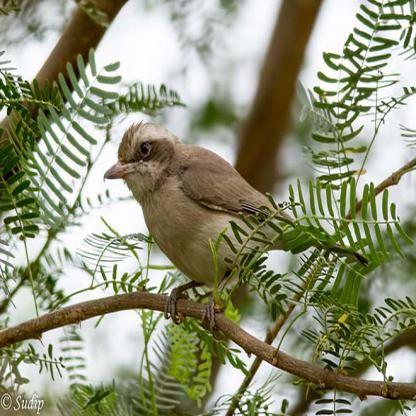Burung: (103, 122, 369, 341)
